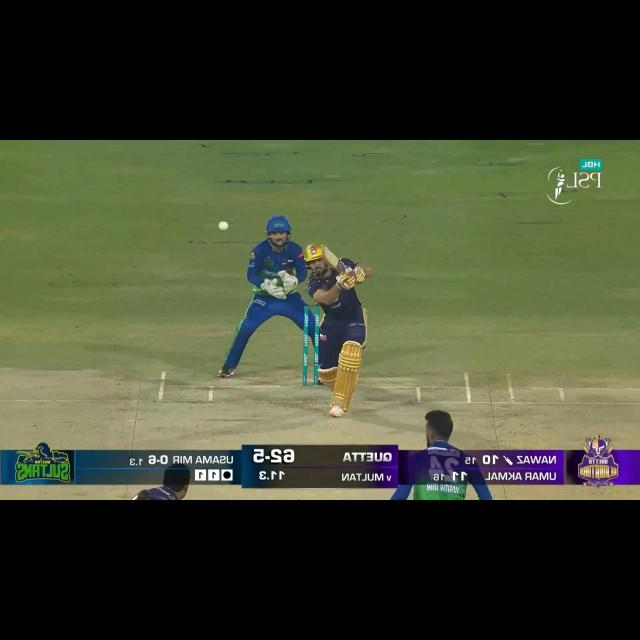bat: (322, 246, 348, 277)
toe: (320, 245, 330, 262)
